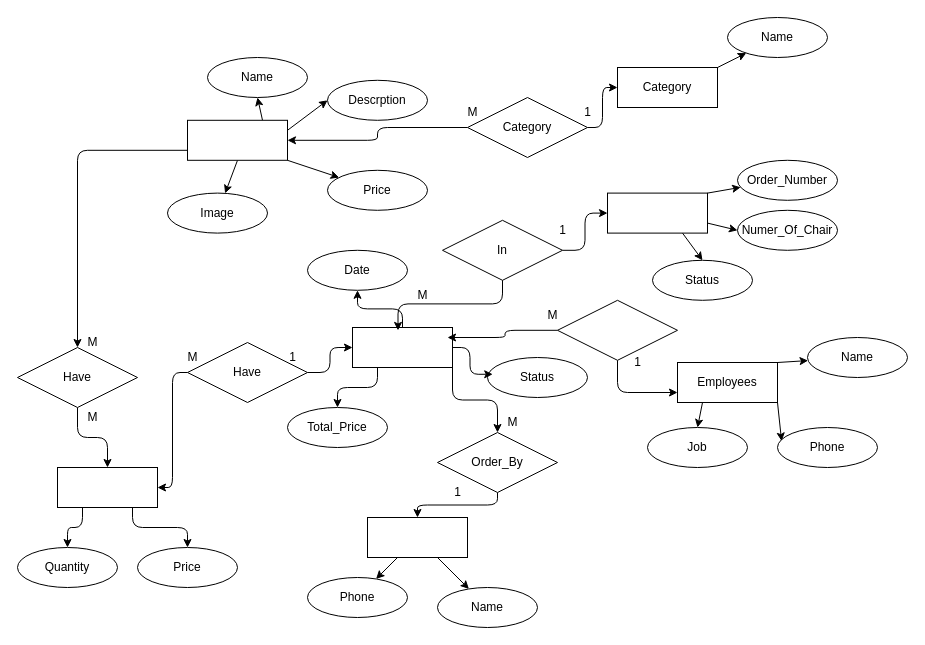
The diagram is 925 pixels wide and 645 high, and some of its shapes have lost their labels. The shapes that lost their labels are listed below. From the top down, each one's centre as x and y in pixels, then its label:
At (237,139): "Items".
At (657,212): "Tables".
At (402,347): "Orders".
At (617,329): "Manage_By".
At (107,487): "Order_Item".
At (417,537): "Customers".
